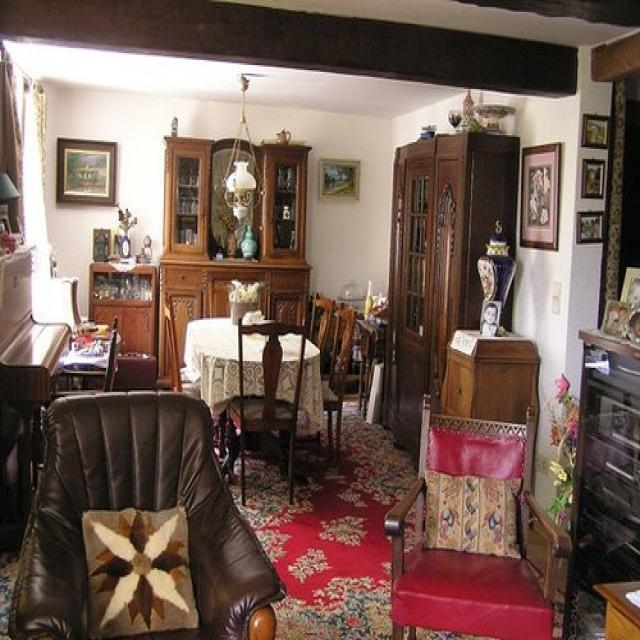chair: (9, 390, 285, 638), (383, 392, 572, 638), (226, 315, 308, 508), (317, 310, 358, 458), (310, 294, 335, 349)
diningtable: (183, 317, 323, 474)
